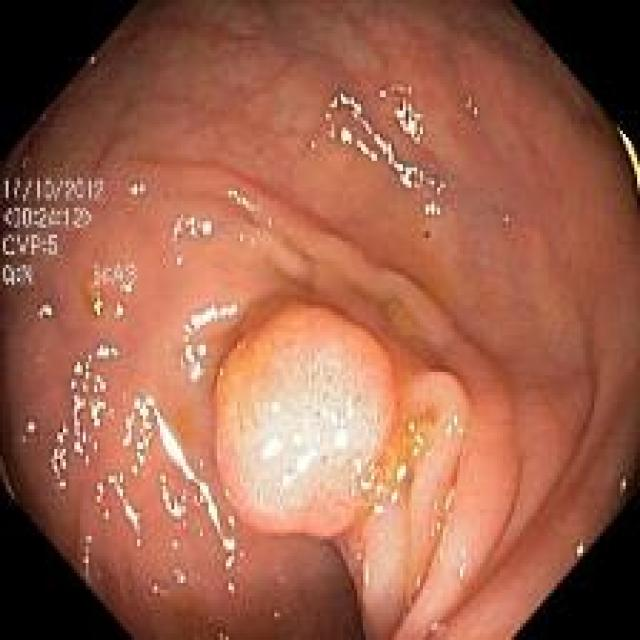Polyps: (215, 306, 396, 539)
